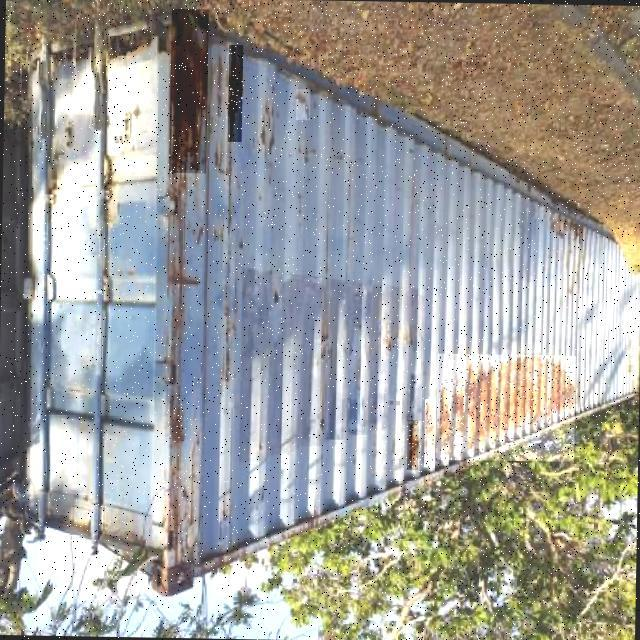Rust: (436, 354, 576, 462), (169, 8, 209, 173), (228, 45, 244, 142), (167, 395, 185, 443), (424, 399, 436, 467), (407, 420, 419, 470), (296, 89, 311, 120)
